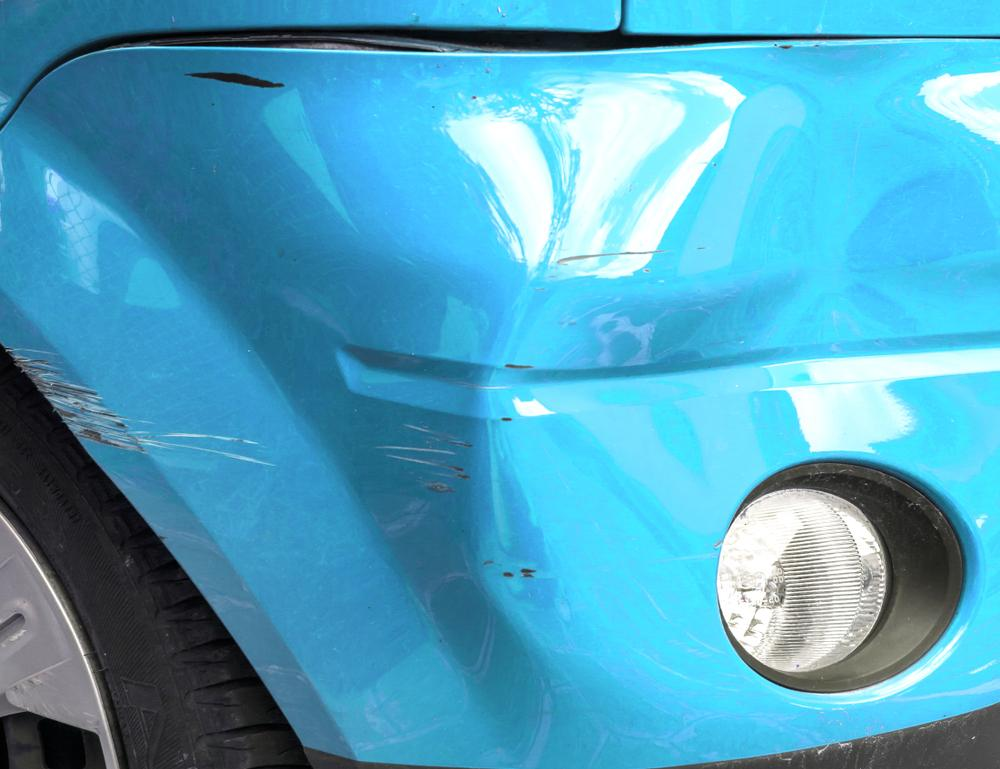dent: (495, 116, 1000, 651)
scratch: (4, 345, 293, 477), (377, 415, 477, 538), (556, 245, 709, 266), (178, 69, 293, 92)
